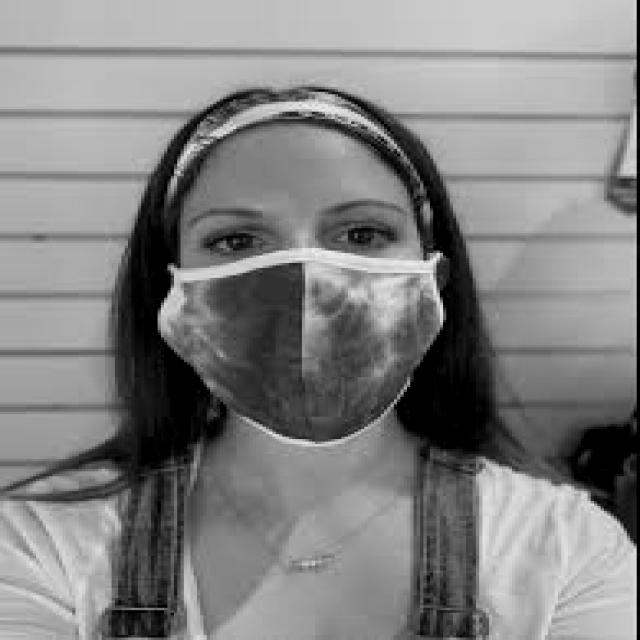fake: (140, 244, 472, 456)
real: (181, 125, 425, 454)
